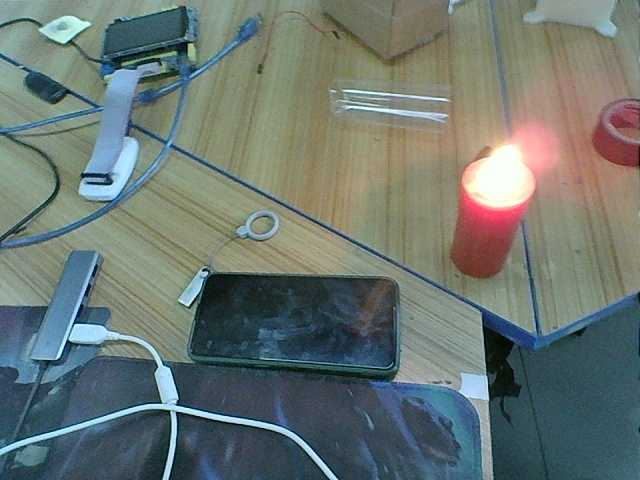candle: (449, 203, 524, 277)
fire: (462, 140, 533, 201)
